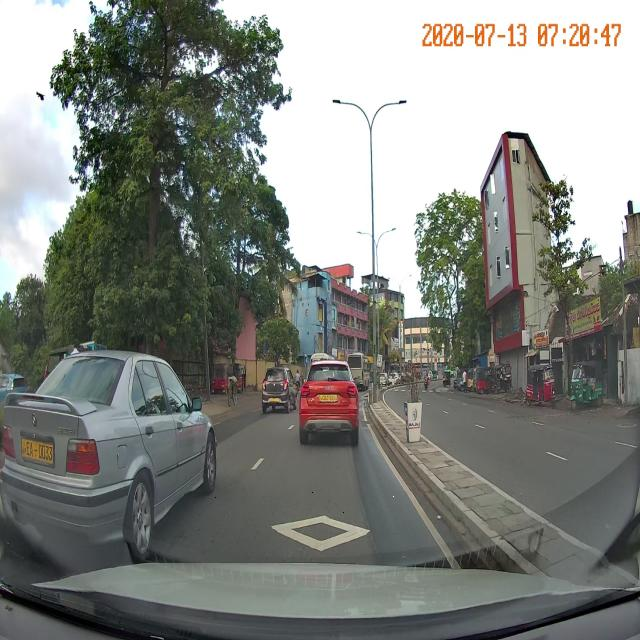diamond: (185, 492, 451, 559)
